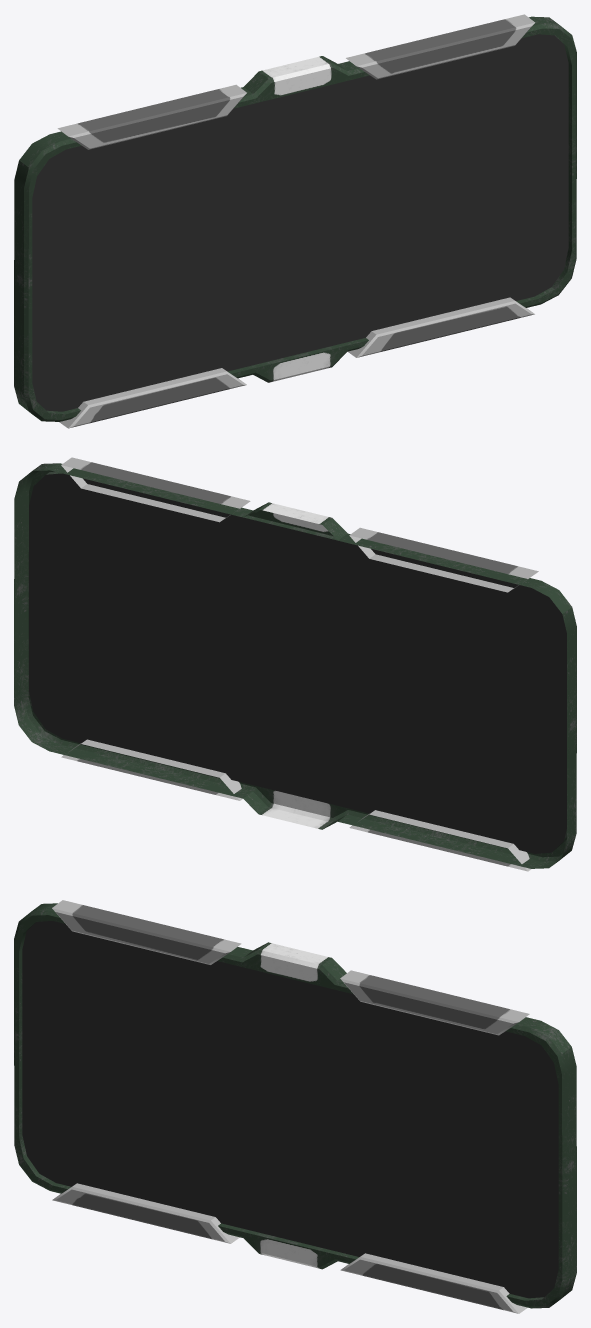
Rendered from Pantalla_ComV1.fbx.
3 renders of one model, top to bottom at view 1: azimuth 30°, elevation 25°; view 2: azimuth 150°, elevation 25°; view 3: azimuth 330°, elevation 25°, orthographic.
Visible parts, largest first — view 1: Pantalla_Com, Marco_pantalla1, Marco_pantalla2, Marco_pantalla3, Marco_pantalla4; view 2: Pantalla_Com, Marco_pantalla1, Marco_pantalla2, Marco_pantalla3, Marco_pantalla4; view 3: Pantalla_Com, Marco_pantalla2, Marco_pantalla1, Marco_pantalla3, Marco_pantalla4.
Boxes of the visible parts, x1,y1,x2,y2 form: Pantalla_Com: (14,16,576,421); Marco_pantalla1: (57,84,246,149); Marco_pantalla2: (346,14,535,79); Marco_pantalla3: (59,368,246,428); Marco_pantalla4: (348,297,534,357); Pantalla_Com: (14,463,576,868); Marco_pantalla1: (349,527,538,592); Marco_pantalla2: (61,457,250,522); Marco_pantalla3: (349,810,531,871); Marco_pantalla4: (61,739,242,800); Pantalla_Com: (14,903,576,1308); Marco_pantalla2: (340,970,529,1035); Marco_pantalla1: (52,900,241,964); Marco_pantalla3: (52,1183,239,1243); Marco_pantalla4: (340,1253,527,1313).
Size of the model in its own units: 162 by 85.45 by 7.27.
Materials: 2 (2 with a texture image).
